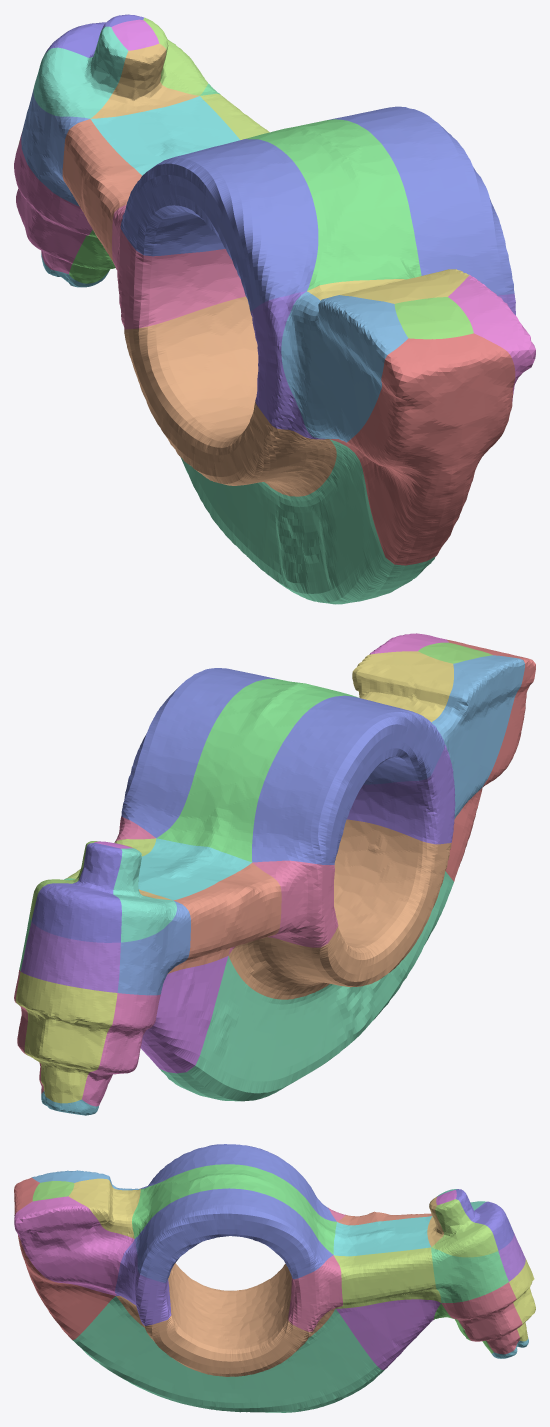
Rendered from 10_rockerarm_output.obj.
3 views of the same model, one above another, from view 1: azimuth 30°, elevation 25°; view 2: azimuth 150°, elevation 25°; view 3: azimuth 270°, elevation 25° (orthographic). The views are drawn at different scales.
Size of the model in its own units: 0.3034 by 0.5144 by 0.9997.
